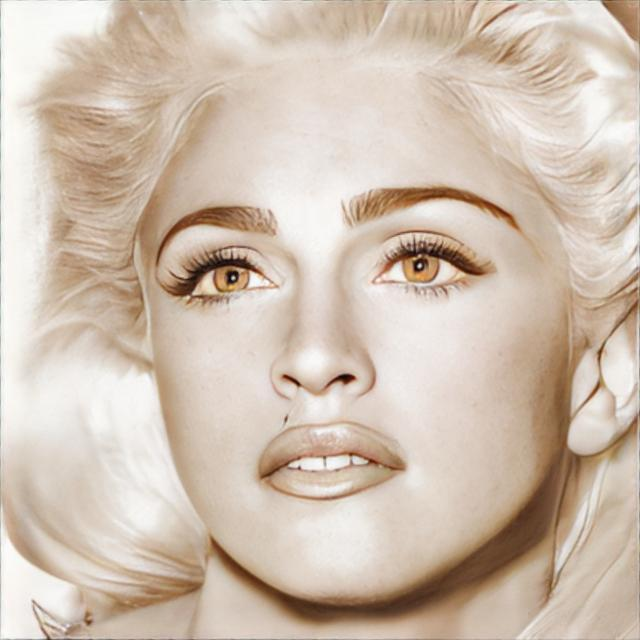neutral: (139, 52, 576, 608)
